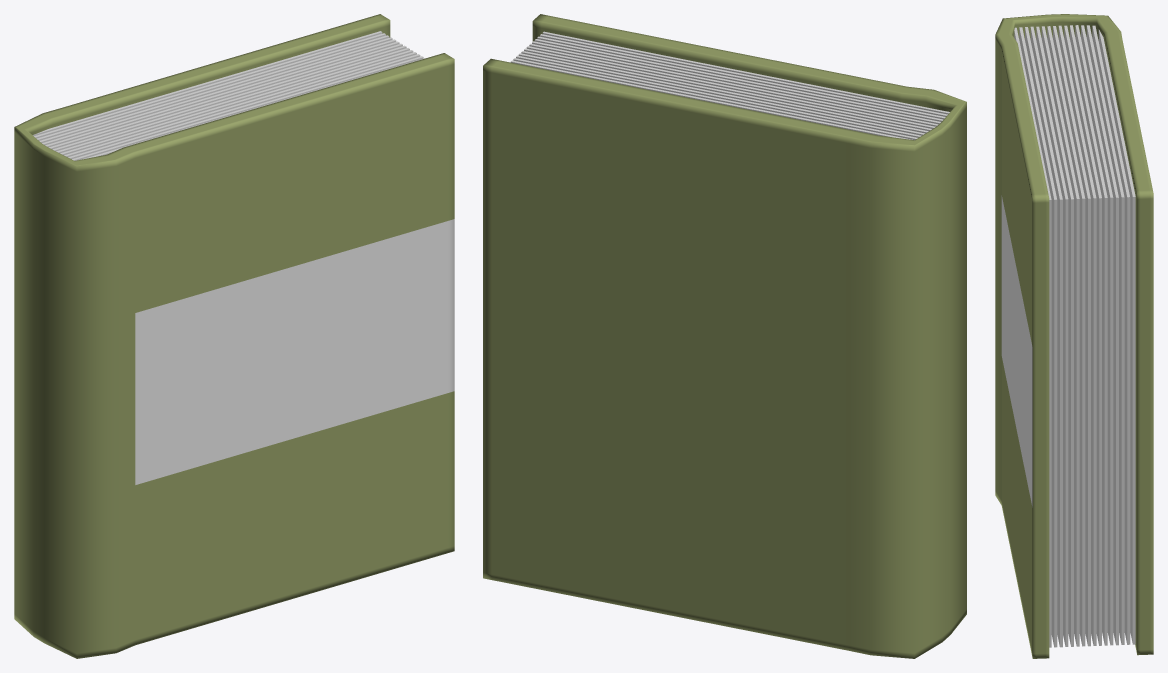
The model's file is livre.glb.
3 views of the same model, side by side, from view 1: azimuth 30°, elevation 25°; view 2: azimuth 150°, elevation 25°; view 3: azimuth 270°, elevation 25° (orthographic). The views are drawn at different scales.
Parts seen in each view (by area): view 1: book close_paper.016; view 2: book close_paper.016; view 3: book close_paper.016.
Part boxes in pixels (x1,y1,x2,y2): book close_paper.016: (14, 14, 454, 658); book close_paper.016: (483, 14, 966, 658); book close_paper.016: (995, 14, 1153, 658).
Bounding box in the file's own units: 0.0112 × 0.013 × 0.00406.
